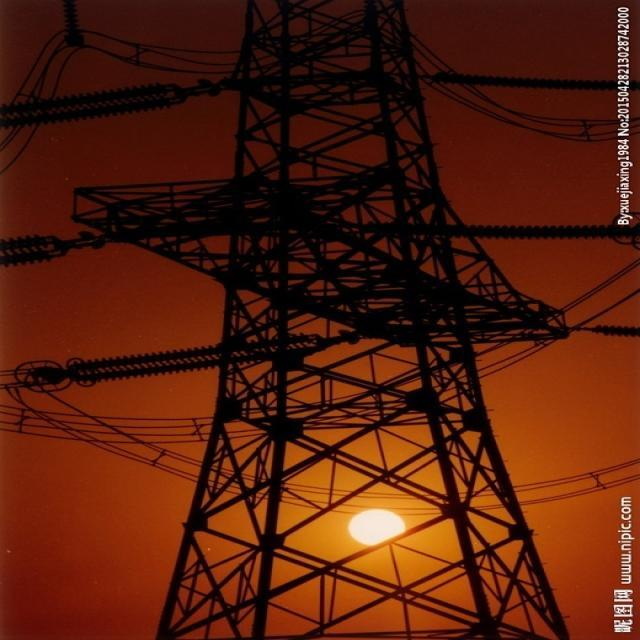non-critical vegetation: (47, 17, 592, 634)
